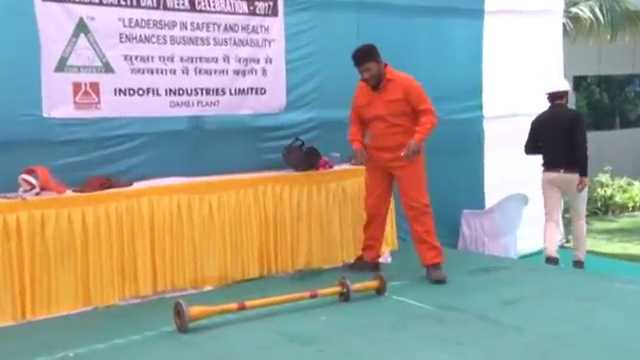helmet: (542, 76, 574, 95)
helmet_off: (351, 43, 387, 88)
helmet_on: (541, 77, 574, 111)
person: (344, 43, 449, 284), (521, 75, 590, 270)
